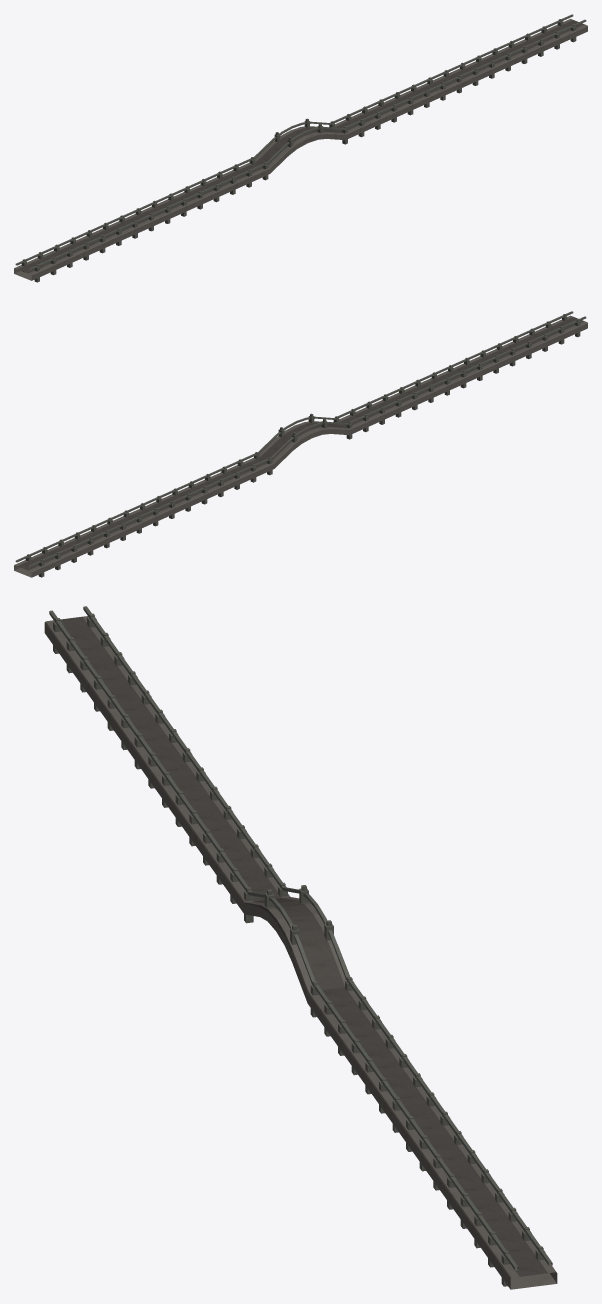
File: SuDi01.fbx
3 views of the same model, one above another, from view 1: azimuth 30°, elevation 25°; view 2: azimuth 210°, elevation 25°; view 3: azimuth 270°, elevation 25° (orthographic). The views are drawn at different scales.
Visible parts, largest first — view 1: SuDi01; view 2: SuDi01; view 3: SuDi01.
Boxes of the visible parts, box(x1,y1,x2,y2) form: SuDi01: box(14, 14, 587, 282); SuDi01: box(14, 311, 587, 577); SuDi01: box(44, 606, 557, 1289).
Bounding box in the file's own units: 6435 × 273 × 2104.
